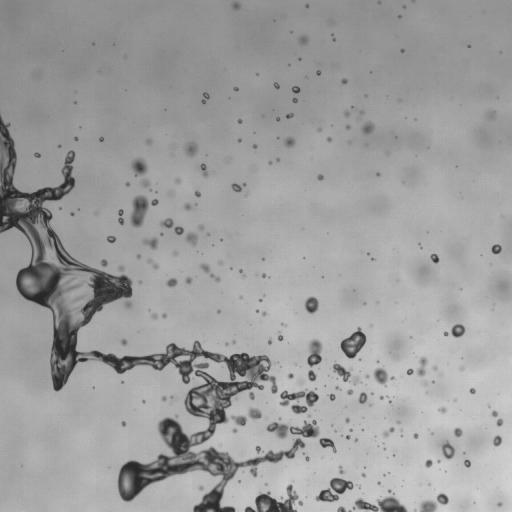droplet: (279, 389, 318, 414), (130, 195, 158, 227), (340, 327, 366, 358), (307, 339, 322, 367), (373, 368, 394, 386), (131, 158, 147, 176), (304, 296, 318, 313), (442, 441, 455, 459), (451, 324, 465, 337), (143, 237, 158, 249), (185, 142, 197, 156), (186, 232, 197, 245), (248, 408, 261, 419), (362, 122, 374, 133), (160, 218, 173, 228), (491, 244, 501, 254), (284, 137, 295, 146), (166, 278, 177, 287), (358, 392, 367, 403), (493, 435, 502, 446), (430, 253, 439, 263), (308, 370, 316, 381), (141, 178, 150, 187), (200, 264, 209, 273), (454, 427, 462, 437), (202, 92, 209, 103), (174, 226, 183, 234), (299, 36, 307, 44), (487, 111, 495, 119), (232, 2, 240, 9), (292, 86, 300, 93), (184, 203, 192, 210), (107, 236, 115, 243), (438, 406, 446, 413), (425, 459, 432, 467), (100, 259, 107, 266), (124, 300, 131, 307), (297, 378, 304, 385), (328, 394, 335, 401), (277, 333, 283, 341), (496, 418, 502, 426), (464, 459, 470, 467), (194, 190, 200, 197), (185, 277, 191, 284), (491, 410, 497, 417), (341, 78, 347, 84), (317, 174, 323, 180), (151, 313, 157, 319), (121, 339, 127, 345), (407, 369, 413, 375), (469, 388, 475, 394), (286, 113, 293, 118), (256, 446, 261, 453), (339, 466, 344, 473), (146, 139, 151, 145), (34, 152, 40, 157), (118, 266, 124, 271), (288, 373, 293, 379), (421, 380, 427, 385), (347, 389, 353, 394), (274, 83, 279, 88), (344, 111, 349, 116), (175, 178, 180, 183), (161, 396, 166, 401), (413, 433, 418, 438), (345, 417, 349, 423), (316, 70, 320, 75), (292, 98, 297, 102), (326, 137, 331, 141), (444, 331, 448, 336), (432, 366, 437, 370), (121, 421, 125, 426), (232, 428, 237, 432), (268, 338, 271, 344), (238, 119, 242, 123), (346, 125, 350, 129), (99, 137, 103, 141), (253, 144, 257, 148), (125, 182, 129, 186), (199, 225, 203, 229), (262, 273, 266, 277), (262, 311, 266, 315), (162, 314, 166, 318), (335, 386, 339, 390), (346, 435, 350, 439), (305, 456, 309, 460), (199, 486, 203, 490), (497, 502, 501, 506), (234, 87, 238, 90), (318, 127, 321, 131), (376, 172, 379, 176), (173, 252, 177, 255), (136, 255, 140, 258), (219, 261, 222, 265), (366, 374, 369, 378), (170, 396, 174, 399), (276, 117, 279, 120), (74, 137, 77, 140), (239, 270, 242, 273), (256, 309, 259, 312), (282, 323, 285, 326), (232, 340, 235, 343), (460, 367, 463, 370), (380, 396, 383, 399), (362, 473, 365, 476), (207, 232, 209, 236), (401, 49, 403, 52), (360, 111, 363, 113), (238, 139, 241, 141), (269, 161, 271, 164), (71, 212, 73, 215), (367, 252, 369, 255), (259, 299, 262, 301), (217, 310, 220, 312), (225, 343, 228, 345), (437, 460, 440, 462), (372, 258, 374, 260), (397, 421, 399, 423), (355, 439, 357, 441), (378, 482, 380, 484)
ligament: (0, 115, 316, 511), (244, 484, 302, 511), (337, 489, 407, 511), (315, 477, 353, 501), (413, 493, 448, 511), (332, 363, 361, 384), (319, 438, 336, 452), (417, 356, 427, 376), (231, 183, 245, 191), (147, 259, 158, 269), (383, 427, 394, 437), (201, 164, 208, 177), (118, 209, 123, 224), (210, 274, 220, 281)
